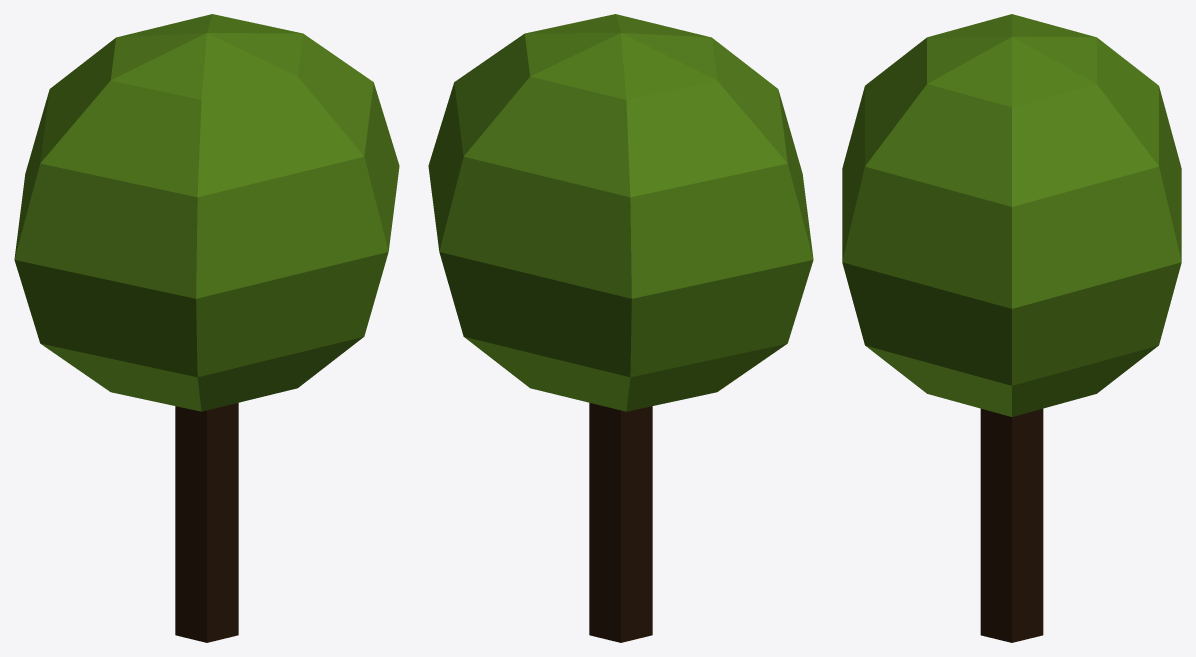
The model's file is Tree.FBX.
3 renders of one model, left to right at view 1: azimuth 30°, elevation 25°; view 2: azimuth 150°, elevation 25°; view 3: azimuth 270°, elevation 25°, orthographic.
Parts seen in each view (by area): view 1: tree; view 2: tree; view 3: tree.
Boxes of the visible parts, <box> form: tree: <box>14,14,399,642</box>; tree: <box>428,14,813,642</box>; tree: <box>842,14,1181,642</box>.
Size of the model in its own units: 551 by 813 by 424.
